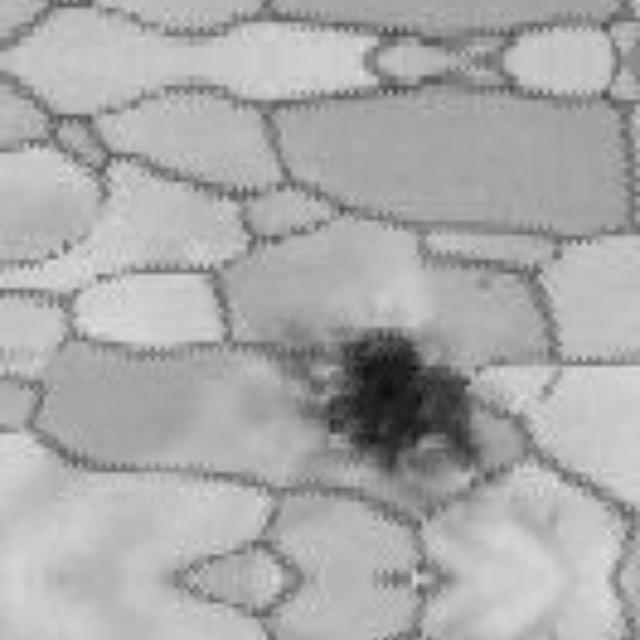good_void: (307, 320, 486, 485)
